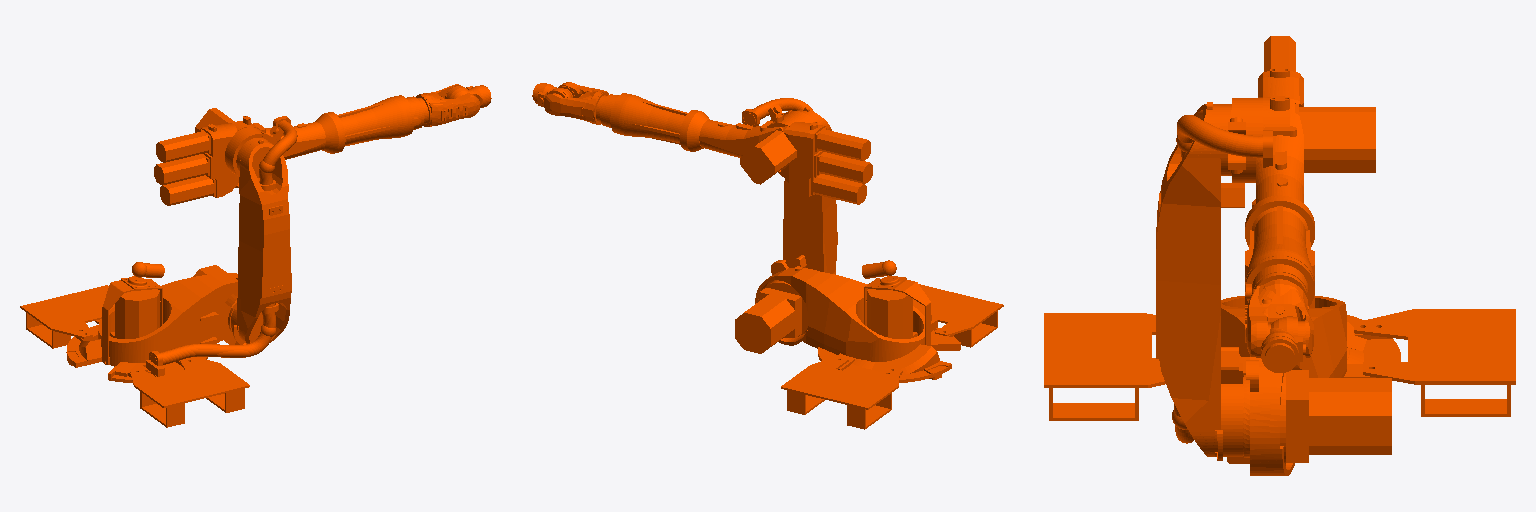
robot.urdf — kuka_kr16l6_2_ks:
<?xml version="1.0"?>
<robot name="kuka_kr16l6_2_ks">
  <material name="kuka_orange"><color rgba="1.00 0.40 0.00 1.0"/></material>
  <material name="kuka_dark_gray"><color rgba="0.20 0.20 0.20 1.0"/></material>

  <link name="base_link">
    <inertial>
      <origin xyz="-0.238906 0.002012 0.130747" rpy="0 0 0"/>
      <mass value="28.444"/>
      <inertia ixx="0.620696" ixy="0.013904" ixz="0.073562" iyy="1.468439" iyz="0.003262" izz="1.165414"/>
    </inertial>
    <visual>
      <origin xyz="0 0 0" rpy="0 0 0"/>
      <geometry><mesh filename="meshes/visual/base_link.stl"/></geometry>
      <material name="kuka_dark_gray"/>
    </visual>
    <collision>
      <origin xyz="0 0 0" rpy="0 0 0"/>
      <geometry><mesh filename="meshes/visual/base_link.stl"/></geometry>
    </collision>
  </link>

  <link name="link_1">
    <inertial>
      <origin xyz="0.105329 -0.003605 0.220265" rpy="0 0 0"/>
      <mass value="92.100"/>
      <inertia ixx="3.588343" ixy="0.012916" ixz="-0.146253" iyy="2.826600" iyz="-0.007476" izz="5.514799"/>
    </inertial>
    <visual>
      <origin xyz="0 0 0" rpy="0 0 0"/>
      <geometry><mesh filename="meshes/visual/link_1.stl"/></geometry>
      <material name="kuka_orange"/>
    </visual>
    <collision>
      <origin xyz="0 0 0" rpy="0 0 0"/>
      <geometry><mesh filename="meshes/visual/link_1.stl"/></geometry>
    </collision>
  </link>

  <link name="link_2">
    <inertial>
      <origin xyz="0.000325 -0.177561 0.324041" rpy="0 0 0"/>
      <mass value="100.300"/>
      <inertia ixx="3.798490" ixy="-0.001582" ixz="0.000150" iyy="3.810003" iyz="0.099770" izz="0.409574"/>
    </inertial>
    <visual>
      <origin xyz="0 0 0" rpy="0 0 0"/>
      <geometry><mesh filename="meshes/visual/link_2.stl"/></geometry>
      <material name="kuka_orange"/>
    </visual>
    <collision>
      <origin xyz="0 0 0" rpy="0 0 0"/>
      <geometry><mesh filename="meshes/visual/link_2.stl"/></geometry>
    </collision>
  </link>

  <link name="link_3">
    <inertial>
      <origin xyz="0.086196 -0.001394 -0.017620" rpy="0 0 0"/>
      <mass value="66.100"/>
      <inertia ixx="0.468698" ixy="0.033541" ixz="0.024920" iyy="3.276494" iyz="0.019916" izz="3.318538"/>
    </inertial>
    <visual>
      <origin xyz="0 0 0" rpy="0 0 0"/>
      <geometry><mesh filename="meshes/visual/link_3.stl"/></geometry>
      <material name="kuka_orange"/>
    </visual>
    <collision>
      <origin xyz="0 0 0" rpy="0 0 0"/>
      <geometry><mesh filename="meshes/visual/link_3.stl"/></geometry>
    </collision>
  </link>

  <link name="link_4">
    <inertial>
      <origin xyz="-0.132567 -0.006280 -0.000231" rpy="0 0 0"/>
      <mass value="21.500"/>
      <inertia ixx="0.069619" ixy="0.003576" ixz="-0.000018" iyy="0.156428" iyz="-0.000435" izz="0.173112"/>
    </inertial>
    <visual>
      <origin xyz="0 0 0" rpy="0 0 0"/>
      <geometry><mesh filename="meshes/visual/link_4.stl"/></geometry>
      <material name="kuka_orange"/>
    </visual>
    <collision>
      <origin xyz="0 0 0" rpy="0 0 0"/>
      <geometry><mesh filename="meshes/visual/link_4.stl"/></geometry>
    </collision>
  </link>

  <link name="link_5">
    <inertial>
      <origin xyz="0.040165 0.010984 -0.000218" rpy="0 0 0"/>
      <mass value="10.700"/>
      <inertia ixx="0.020698" ixy="0.001793" ixz="0.000003" iyy="0.030772" iyz="-0.000025" izz="0.030278"/>
    </inertial>
    <visual>
      <origin xyz="0 0 0" rpy="0 0 0"/>
      <geometry><mesh filename="meshes/visual/link_5.stl"/></geometry>
      <material name="kuka_orange"/>
    </visual>
    <collision>
      <origin xyz="0 0 0" rpy="0 0 0"/>
      <geometry><mesh filename="meshes/visual/link_5.stl"/></geometry>
    </collision>
  </link>

  <link name="link_6">
    <inertial>
      <origin xyz="-0.003166 0.000212 -0.000218" rpy="0 0 0"/>
      <mass value="5.600"/>
      <inertia ixx="0.006959" ixy="0.000000" ixz="-0.000000" iyy="0.006311" iyz="-0.000002" izz="0.006287"/>
    </inertial>
    <visual>
      <origin xyz="0 0 0" rpy="0 0 0"/>
      <geometry><mesh filename="meshes/visual/link_6.stl"/></geometry>
      <material name="kuka_dark_gray"/>
    </visual>
    <collision>
      <origin xyz="0 0 0" rpy="0 0 0"/>
      <geometry><mesh filename="meshes/visual/link_6.stl"/></geometry>
    </collision>
  </link>

  <link name="tool0"/>

  <joint name="joint_a1" type="revolute">
    <parent link="base_link"/>
    <child link="link_1"/>
    <origin xyz="0.000000 0.000000 0.000000" rpy="0 0 0"/>
    <axis xyz="0.0 0.0 -1.0"/>
    <limit lower="-1.989675" upper="1.989675" effort="1150.0" velocity="2.094395"/>
    <dynamics damping="5.0" friction="1.0"/>
  </joint>

  <joint name="joint_a2" type="revolute">
    <parent link="link_1"/>
    <child link="link_2"/>
    <origin xyz="0.450000 0.000000 0.235000" rpy="0 0 0"/>
    <axis xyz="0.0 1.0 0.0"/>
    <limit lower="-0.349066" upper="2.967060" effort="1150.0" velocity="2.722714"/>
    <dynamics damping="5.0" friction="1.0"/>
  </joint>

  <joint name="joint_a3" type="revolute">
    <parent link="link_2"/>
    <child link="link_3"/>
    <origin xyz="0.000000 0.000000 0.680000" rpy="0 0 0"/>
    <axis xyz="0.0 1.0 0.0"/>
    <limit lower="-3.839724" upper="1.117011" effort="600.0" velocity="2.722714"/>
    <dynamics damping="5.0" friction="1.0"/>
  </joint>

  <joint name="joint_a4" type="revolute">
    <parent link="link_3"/>
    <child link="link_4"/>
    <origin xyz="0.970000 0.000000 -0.035000" rpy="0 0 0"/>
    <axis xyz="-1.0 0.0 -0.0"/>
    <limit lower="-6.108652" upper="6.108652" effort="55.0" velocity="5.837736"/>
    <dynamics damping="5.0" friction="1.0"/>
  </joint>

  <joint name="joint_a5" type="revolute">
    <parent link="link_4"/>
    <child link="link_5"/>
    <origin xyz="0.000000 0.000000 0.000000" rpy="0 0 0"/>
    <axis xyz="0.0 1.0 0.0"/>
    <limit lower="-2.268928" upper="2.268928" effort="55.0" velocity="6.200512"/>
    <dynamics damping="5.0" friction="1.0"/>
  </joint>

  <joint name="joint_a6" type="revolute">
    <parent link="link_5"/>
    <child link="link_6"/>
    <origin xyz="0.115000 0.000000 0.000000" rpy="0 0 0"/>
    <axis xyz="-1.0 0.0 -0.0"/>
    <limit lower="-6.108652" upper="6.108652" effort="23.0" velocity="11.289300"/>
    <dynamics damping="5.0" friction="1.0"/>
  </joint>

  <joint name="link_6-tool0" type="fixed">
    <parent link="link_6"/>
    <child link="tool0"/>
    <origin xyz="0.000000 0.000000 0.000000" rpy="0 1.57079632679 0"/>
  </joint>
</robot>

--- Facts derived from the render (not from the file) ---
Views: 3 orthographic renders of the robot side by side, from view 1: azimuth 30°, elevation 25°; view 2: azimuth 150°, elevation 25°; view 3: azimuth 270°, elevation 25°.
Model kuka_kr16l6_2_ks with 8 links and 7 joints (6 revolute, 1 fixed), rooted at base_link, posed every joint at zero.
Links seen in each view (by area): view 1: link_1, link_3, link_2, link_4, link_5; view 2: link_1, link_3, link_2, link_4; view 3: link_1, link_2, link_3, link_4, link_5.
Boxes of the visible links, x1,y1,x2,y2 form: link_1: (20, 262, 275, 427); link_3: (154, 96, 410, 205); link_2: (231, 138, 291, 344); link_4: (399, 84, 479, 135); link_5: (446, 85, 491, 107); link_1: (735, 260, 1003, 429); link_3: (613, 94, 872, 204); link_2: (783, 107, 837, 274); link_4: (544, 82, 626, 132); link_1: (1044, 250, 1515, 475); link_2: (1156, 102, 1244, 460); link_3: (1177, 36, 1375, 284); link_4: (1245, 256, 1314, 357); link_5: (1261, 316, 1305, 372).
Size in the robot's own frame: 1.8 by 1.05 by 0.9371 metres.
Meshes: 7 distinct files referenced, 5 mesh visuals loaded (5 binary STL); not drawn: 2 (reference not matched to a file when rendering).
